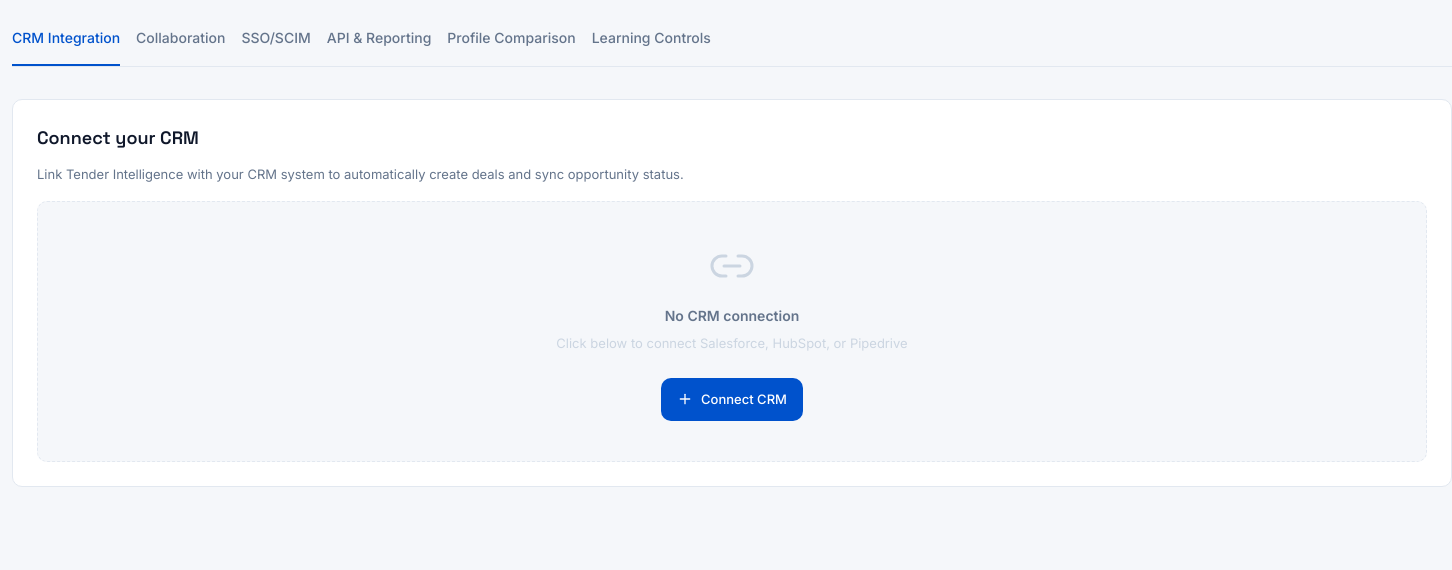
Test case: RoadmapFeatures › switches to Learning Controls tab content on click
Click the tab "Learning Controls".
click(651, 39)  # box [592, 12, 711, 66]
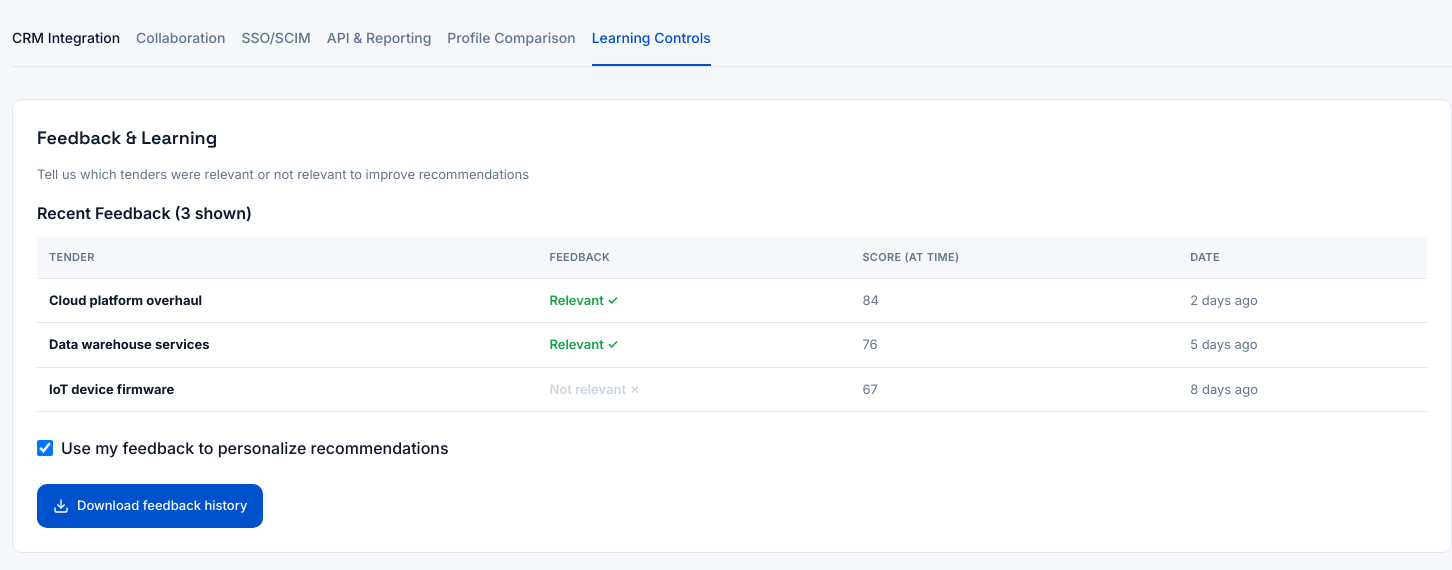
Check: the heading "Feedback & Learning" is shown, box [37, 126, 217, 149]
